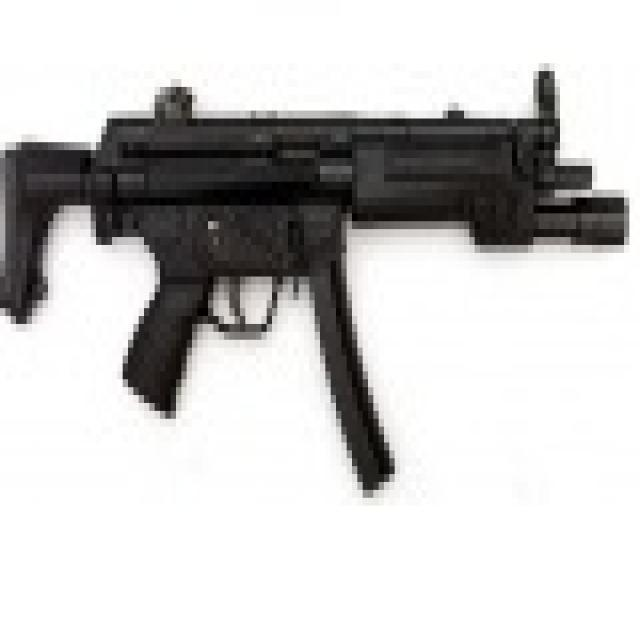Gun: (0, 55, 639, 504)
